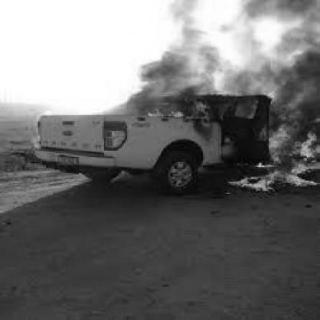Fire: (147, 88, 215, 120)
